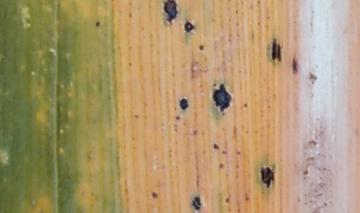tarspot: (212, 83, 232, 115), (259, 165, 276, 188), (163, 1, 179, 23), (272, 38, 282, 63), (290, 54, 299, 74), (183, 20, 196, 33), (178, 97, 189, 111), (192, 196, 202, 210), (212, 142, 222, 151), (150, 190, 159, 200), (223, 195, 231, 204), (197, 43, 205, 51), (173, 114, 182, 121), (94, 20, 101, 28), (219, 162, 225, 170), (243, 102, 249, 109)
